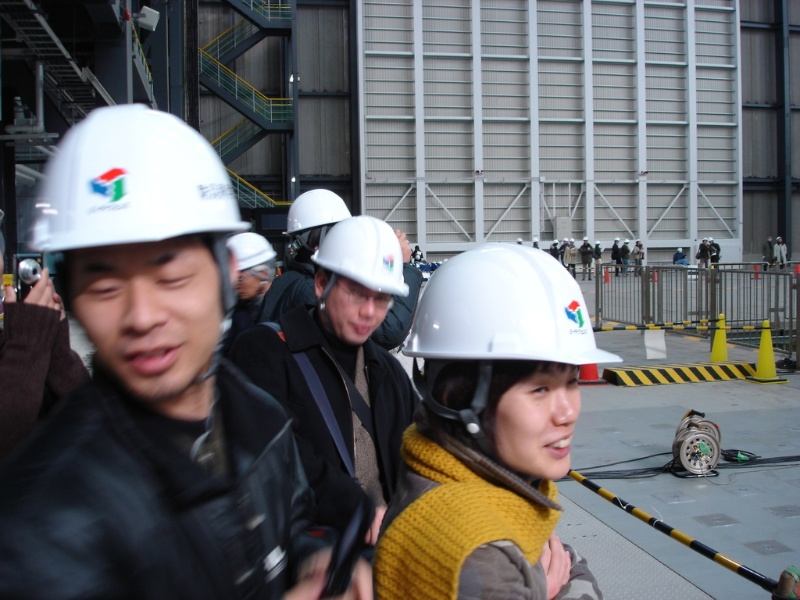helmet: (31, 103, 255, 248), (410, 243, 627, 366), (320, 214, 413, 298), (280, 188, 358, 237), (229, 232, 280, 267)
